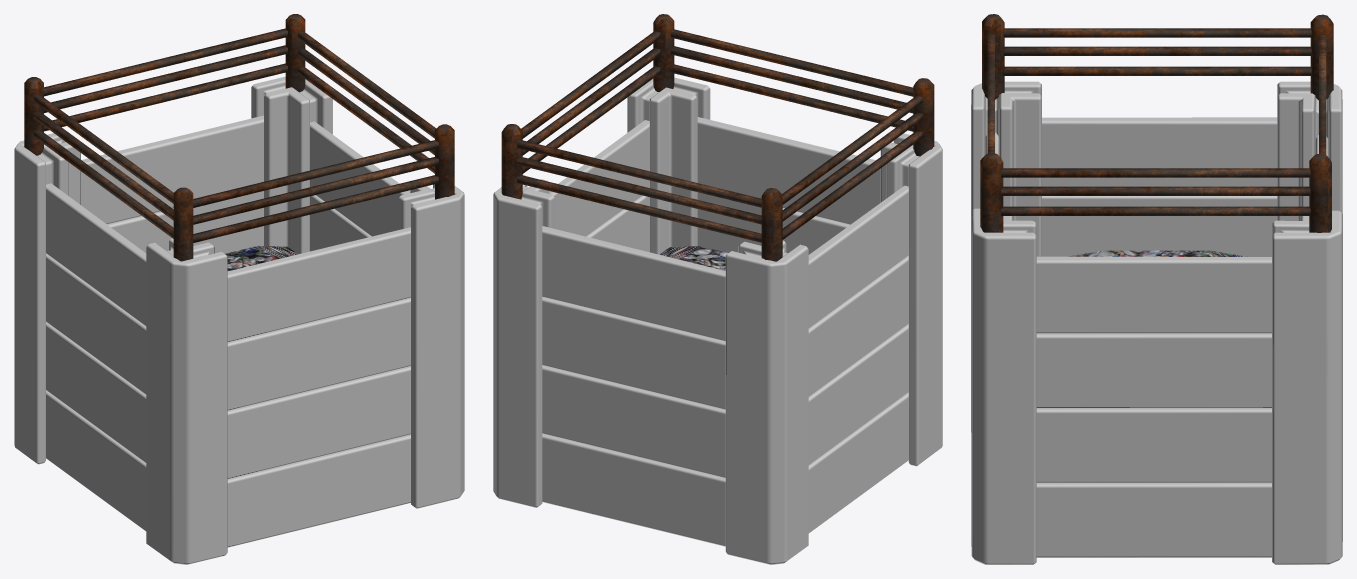
Rendered from zabor.fbx.
3 renders of one model, left to right at view 1: azimuth 30°, elevation 25°; view 2: azimuth 150°, elevation 25°; view 3: azimuth 270°, elevation 25°, orthographic. The views are drawn at different scales.
Parts seen in each view (by area): view 1: Cylinder.001, Cylinder.002, Circle; view 2: Cylinder.001, Cylinder.002, Circle; view 3: Cylinder.001, Cylinder.002, Circle.
Boxes of the visible parts, bbox=[...] form: Cylinder.001: bbox=[14, 76, 464, 564]; Cylinder.002: bbox=[24, 14, 454, 261]; Circle: bbox=[225, 245, 297, 271]; Cylinder.001: bbox=[493, 77, 942, 564]; Cylinder.002: bbox=[501, 14, 934, 261]; Circle: bbox=[659, 246, 728, 270]; Cylinder.001: bbox=[971, 81, 1342, 564]; Cylinder.002: bbox=[980, 14, 1333, 232]; Circle: bbox=[1068, 250, 1247, 256].
Size of the model in its own units: 113 by 134 by 113.
